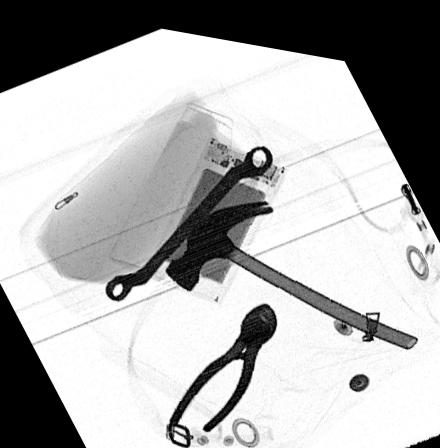Hammer: (165, 190, 416, 333)
Pliers: (165, 293, 277, 428)
Powerbank: (139, 130, 287, 296)
Wrench: (105, 136, 275, 298)
